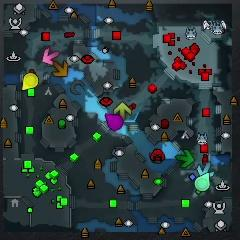p2: (194, 172, 211, 191)
p3: (105, 113, 123, 132)
p4: (21, 73, 38, 92)
x1: (42, 48, 60, 66)
x2: (113, 101, 132, 119)
x3: (198, 162, 214, 176)
x4: (175, 149, 194, 167)
x5: (52, 60, 68, 77)
